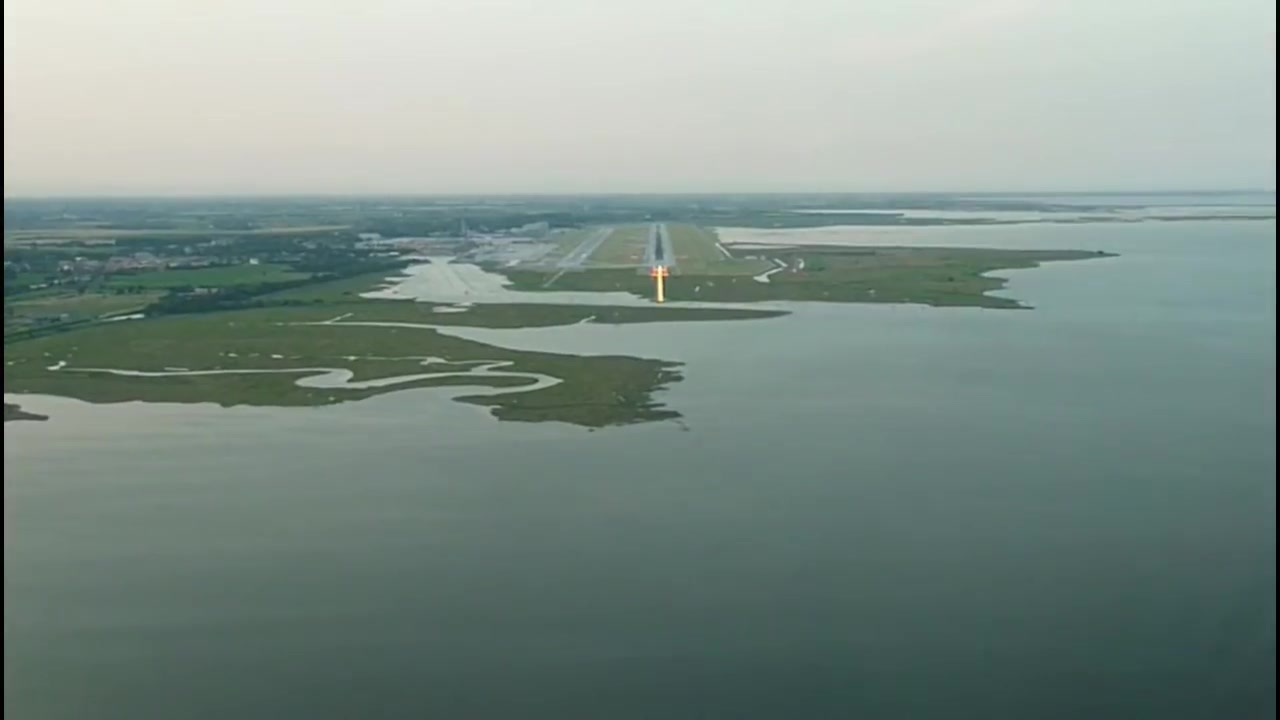runway: (554, 228, 614, 270), (642, 221, 673, 271)
